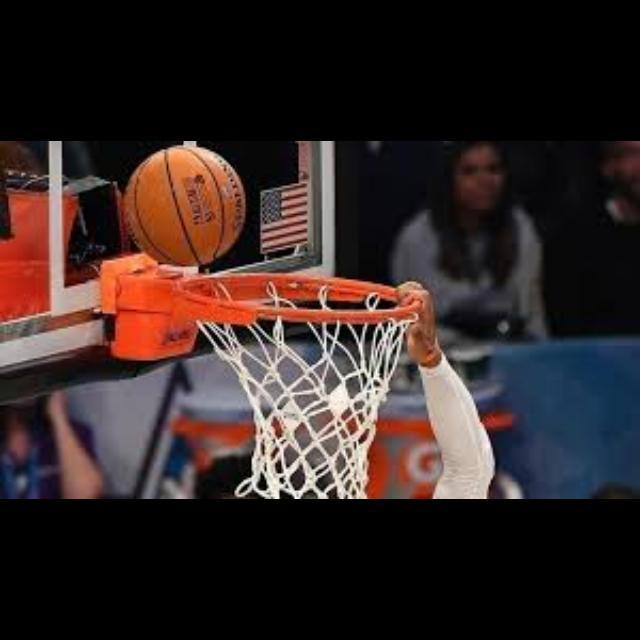basketball: (126, 148, 244, 266)
rim: (192, 273, 416, 499)
